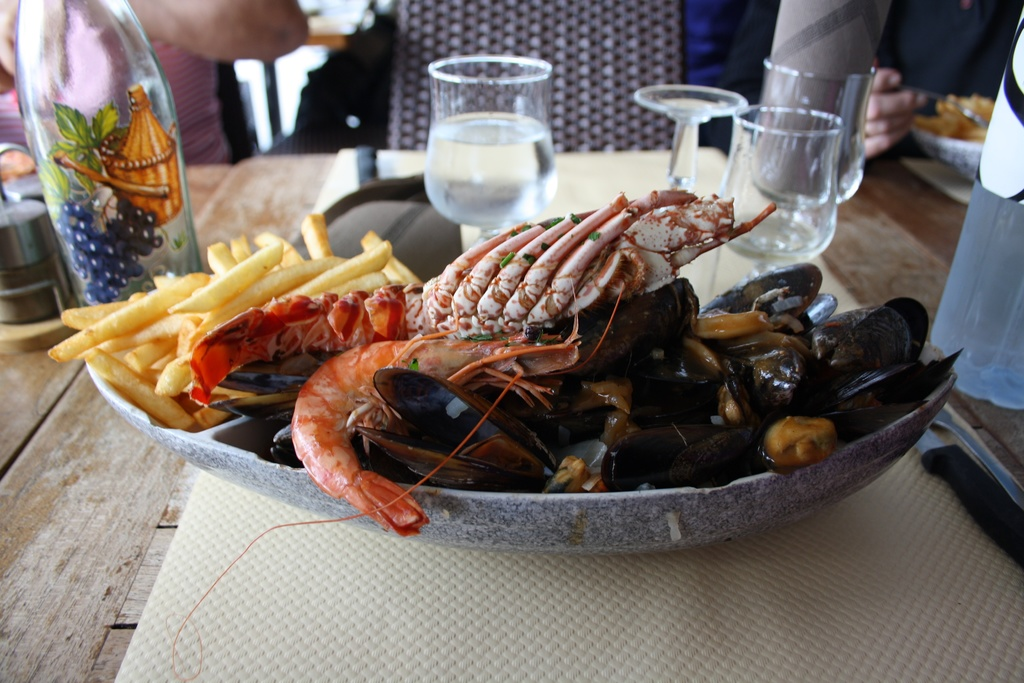French fries: (185, 257, 390, 347), (40, 274, 206, 369), (190, 246, 344, 346), (67, 344, 190, 431), (164, 238, 277, 315), (275, 241, 395, 304), (99, 310, 215, 356), (360, 228, 424, 287), (146, 342, 199, 396), (193, 394, 256, 430), (59, 300, 135, 328), (256, 231, 302, 270), (298, 211, 332, 253), (204, 240, 232, 274), (230, 232, 250, 265)
